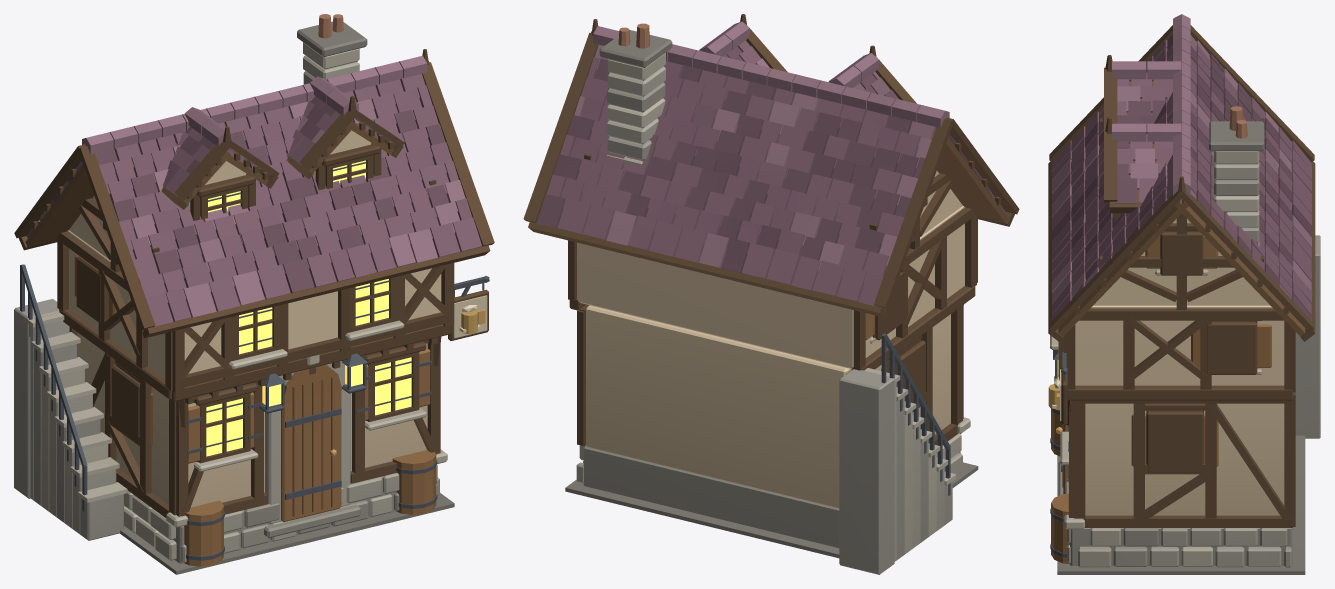
File: tavern.glb
3 renders of one model, left to right at view 1: azimuth 30°, elevation 25°; view 2: azimuth 150°, elevation 25°; view 3: azimuth 270°, elevation 25°, orthographic. The views are drawn at different scales.
Visible parts, largest first — view 1: Roof_HV_tavern_slate, Structure_HV_timber, Structure_HV_tavern_plaster, Roof_HV_timber, Facade_HV_door, Roof_HV_tavern_slate_light, Facade_HV_timber, Roof_HV_tavern_slate_dark, Facade_HV_stone0, Facade_HV_stone2, Facade_HV_iron, Facade_HV_amber_glass (+11 smaller); view 2: Structure_HV_tavern_plaster, Roof_HV_tavern_slate, Roof_HV_tavern_slate_dark, Facade_HV_stone0, Roof_HV_tavern_slate_light, Roof_HV_timber, Structure_HV_timber, Structure_HV_stone0, Structure_HV_stone_dark, Facade_HV_stone2, Facade_HV_iron, Roof_HV_oak (+6 smaller); view 3: Structure_HV_tavern_plaster, Structure_HV_timber, Roof_HV_tavern_slate, Roof_HV_timber, Roof_HV_tavern_slate_light, Facade_HV_timber, Roof_HV_tavern_slate_dark, Structure_HV_stone1, Structure_HV_stone_dark, Roof_HV_oak, Facade_HV_door, Facade_HV_stone0 (+9 smaller).
Boxes of the visible parts, x1=… form: Roof_HV_tavern_slate: x1=26, y1=74, x2=481, y2=326; Structure_HV_timber: x1=57, y1=143, x2=454, y2=517; Structure_HV_tavern_plaster: x1=67, y1=130, x2=441, y2=507; Roof_HV_timber: x1=14, y1=49, x2=494, y2=338; Facade_HV_door: x1=74, y1=254, x2=436, y2=566; Roof_HV_tavern_slate_light: x1=40, y1=56, x2=465, y2=317; Facade_HV_timber: x1=76, y1=144, x2=488, y2=463; Roof_HV_tavern_slate_dark: x1=53, y1=96, x2=448, y2=293; Facade_HV_stone0: x1=14, y1=299, x2=360, y2=540; Facade_HV_stone2: x1=23, y1=312, x2=426, y2=528; Facade_HV_iron: x1=20, y1=162, x2=489, y2=560; Facade_HV_amber_glass: x1=206, y1=160, x2=411, y2=456; Structure_HV_tavern_plaster: x1=577, y1=170, x2=964, y2=508; Roof_HV_tavern_slate: x1=546, y1=40, x2=1005, y2=305; Roof_HV_tavern_slate_dark: x1=534, y1=46, x2=968, y2=273; Facade_HV_stone0: x1=839, y1=369, x2=952, y2=574; Roof_HV_tavern_slate_light: x1=574, y1=21, x2=949, y2=271; Roof_HV_timber: x1=523, y1=14, x2=1019, y2=317; Structure_HV_timber: x1=568, y1=154, x2=977, y2=445; Structure_HV_stone0: x1=583, y1=445, x2=959, y2=547; Structure_HV_stone_dark: x1=565, y1=462, x2=978, y2=558; Facade_HV_stone2: x1=864, y1=337, x2=956, y2=554; Facade_HV_iron: x1=881, y1=333, x2=950, y2=495; Roof_HV_oak: x1=767, y1=138, x2=1007, y2=310; Structure_HV_tavern_plaster: x1=1075, y1=219, x2=1284, y2=515; Structure_HV_timber: x1=1058, y1=118, x2=1295, y2=527; Roof_HV_tavern_slate: x1=1051, y1=39, x2=1312, y2=320; Roof_HV_timber: x1=1048, y1=25, x2=1315, y2=341; Roof_HV_tavern_slate_light: x1=1051, y1=14, x2=1311, y2=303; Facade_HV_timber: x1=1061, y1=213, x2=1261, y2=472; Roof_HV_tavern_slate_dark: x1=1051, y1=34, x2=1311, y2=320; Structure_HV_stone1: x1=1065, y1=481, x2=1291, y2=567; Structure_HV_stone_dark: x1=1057, y1=435, x2=1305, y2=574; Roof_HV_oak: x1=1058, y1=81, x2=1305, y2=336; Facade_HV_door: x1=1051, y1=236, x2=1271, y2=564; Facade_HV_stone0: x1=1058, y1=235, x2=1320, y2=495.
Size of the model in its own units: 4.05 by 4.79 by 2.66.
